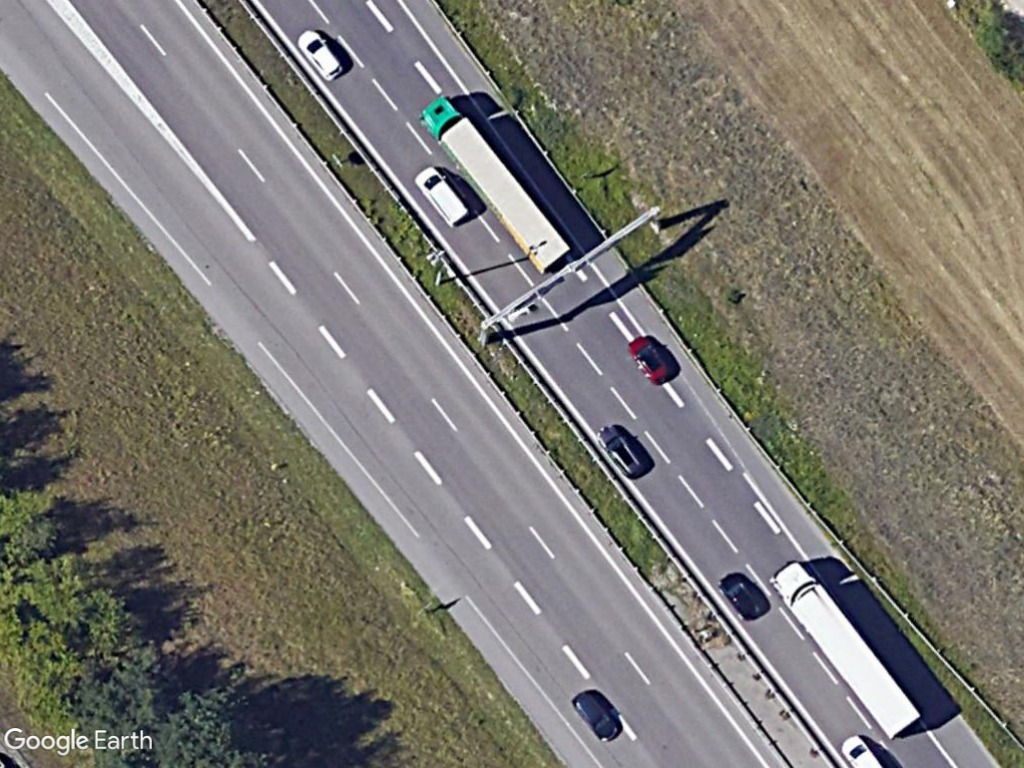car: (293, 24, 347, 83), (571, 689, 624, 744), (623, 334, 675, 389)
longvehicle: (768, 554, 926, 740), (417, 91, 571, 276)
van: (412, 166, 471, 228)
